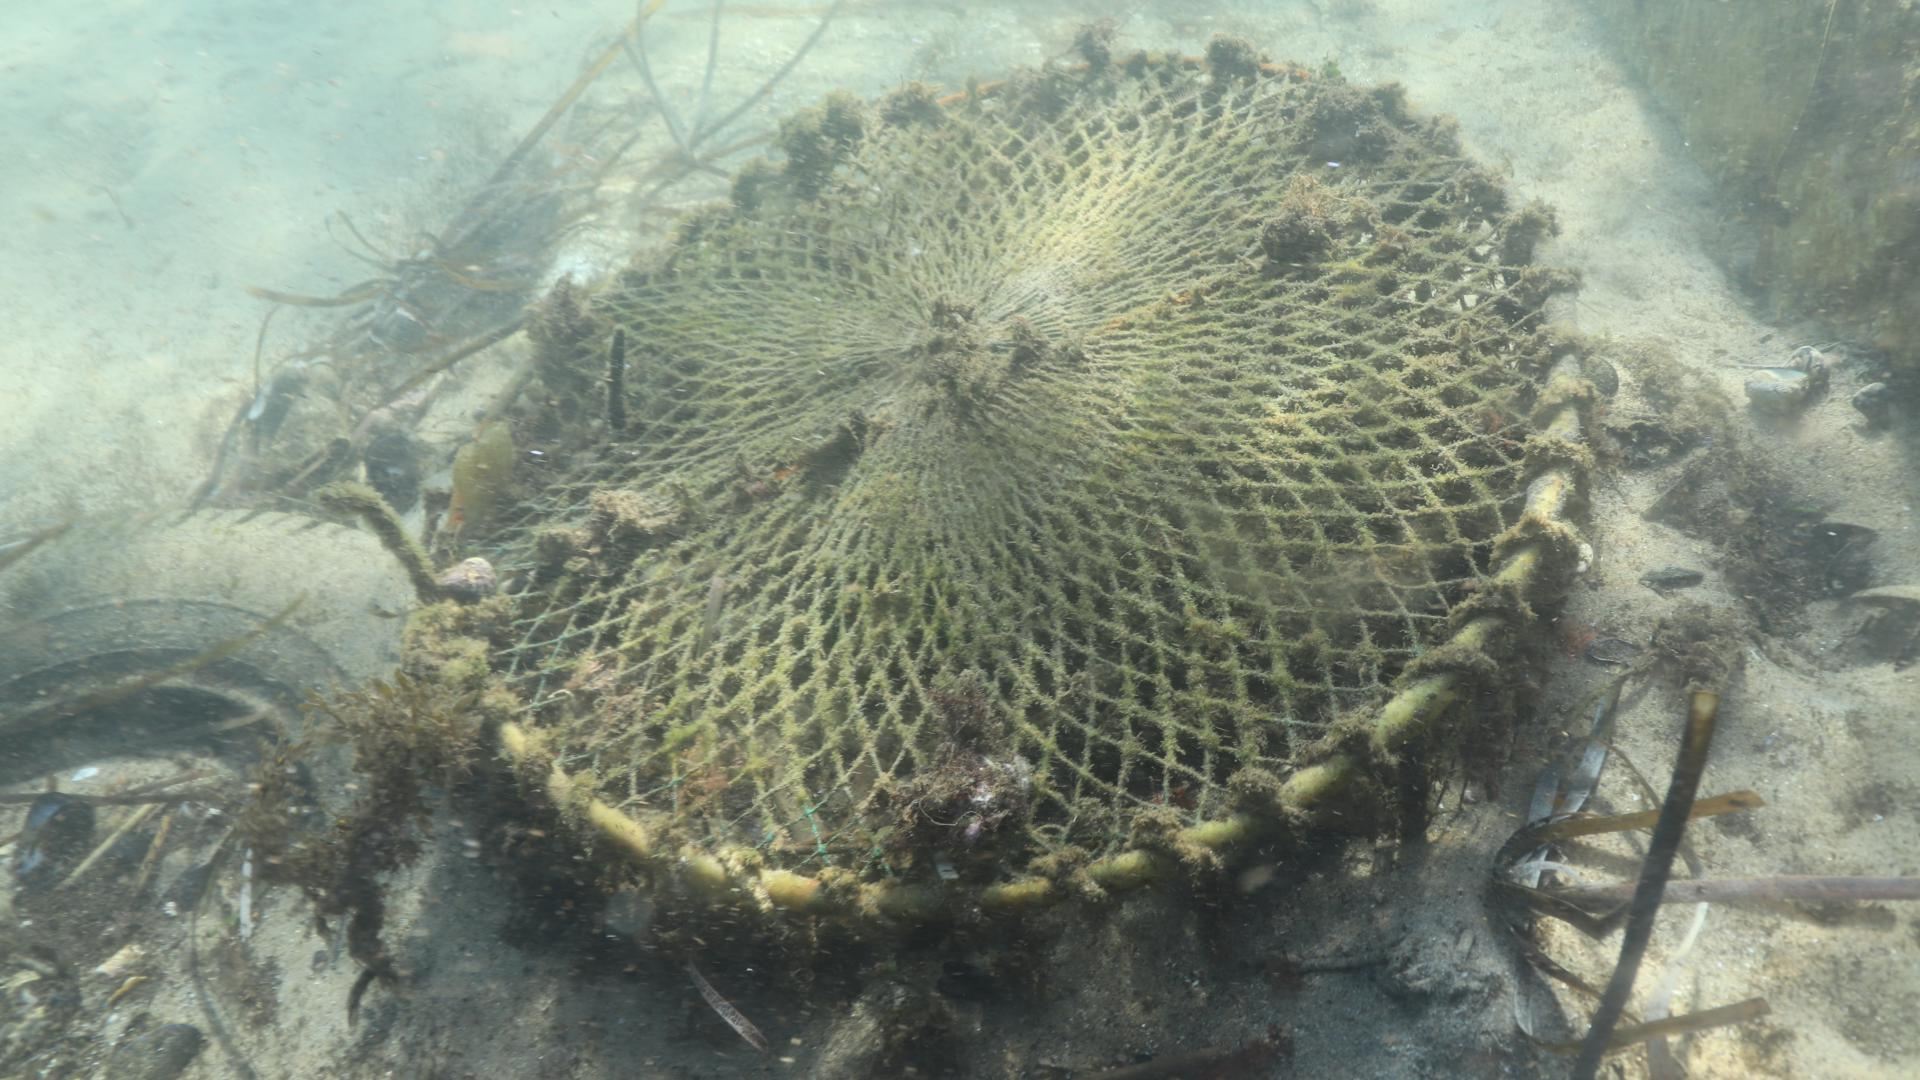circular fish trap: (415, 49, 1593, 998)
